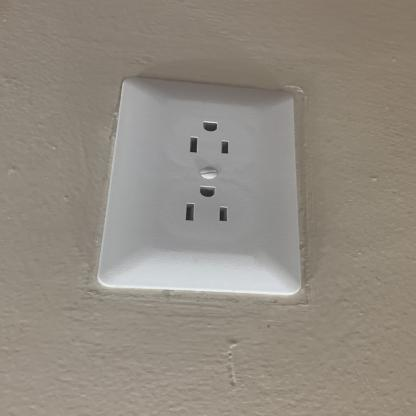OUTLET: (107, 82, 300, 296)
